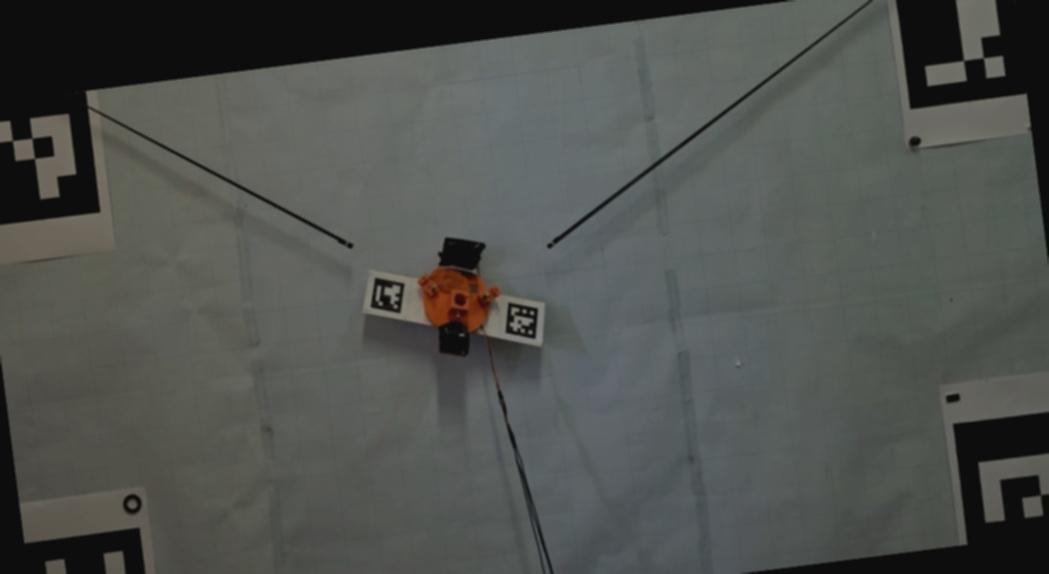robot: (417, 238, 502, 358)
